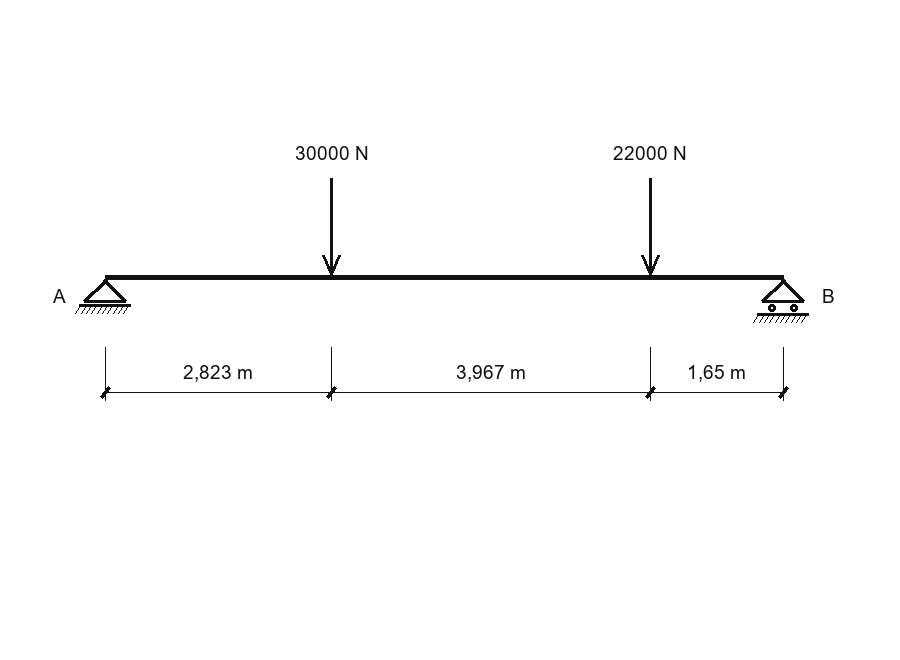pin_support: (75, 279, 131, 314)
point_load: (322, 178, 341, 275), (641, 178, 660, 275)
roller_support: (753, 279, 809, 323)
